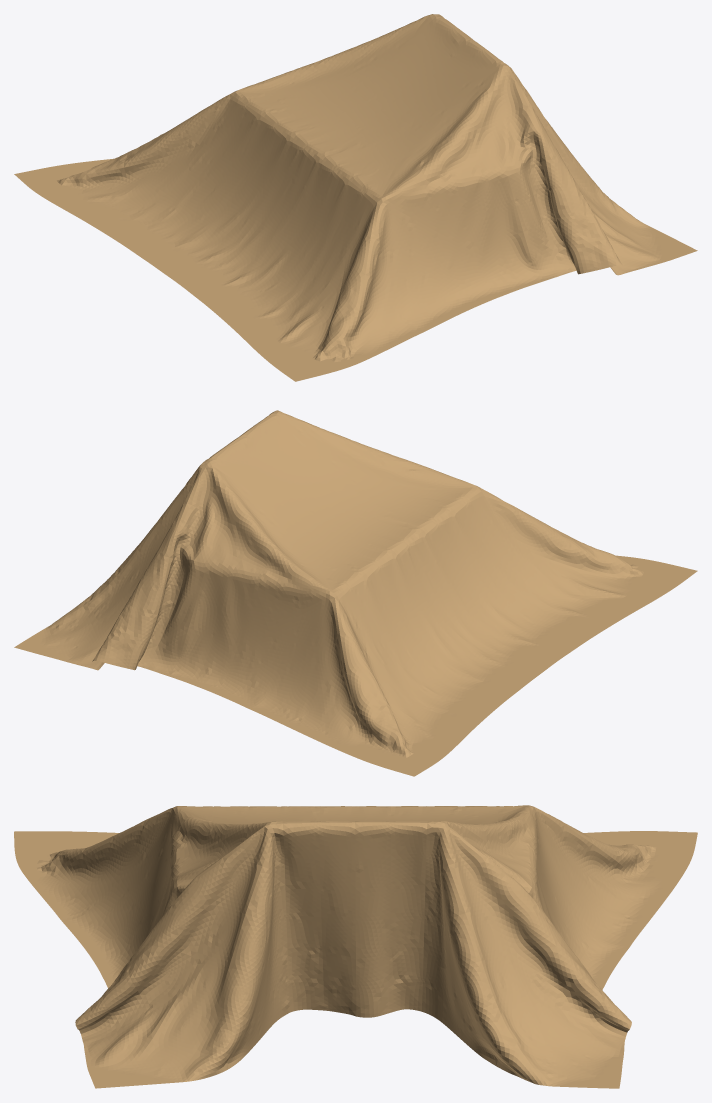
File: level_3.glb
3 views of the same model, one above another, from view 1: azimuth 30°, elevation 25°; view 2: azimuth 150°, elevation 25°; view 3: azimuth 270°, elevation 25° (orthographic). The views are drawn at different scales.
Parts seen in each view (by area): view 1: world; view 2: world; view 3: world.
Part boxes in pixels (x1,y1,x2,y2): world: (14, 14, 697, 381); world: (14, 410, 697, 776); world: (14, 805, 697, 1088).
Bounding box in the file's own units: 0.5381 × 0.1911 × 0.6034.
